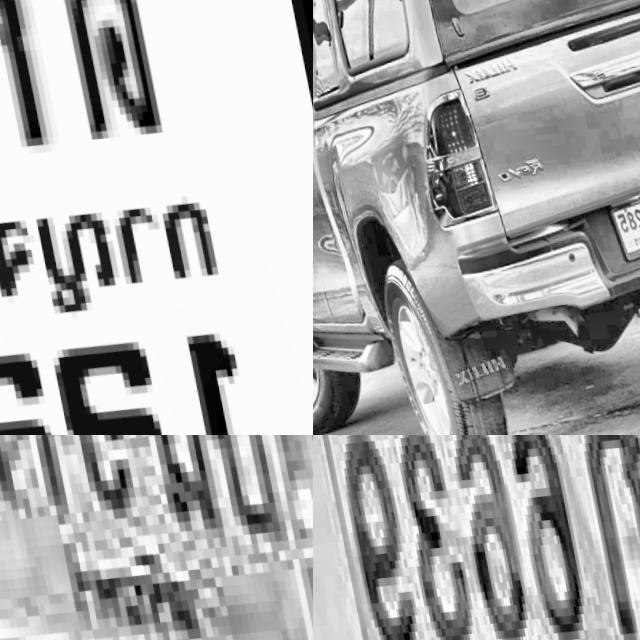license-plate: (0, 0, 313, 435), (313, 435, 640, 640), (0, 435, 313, 640), (601, 175, 640, 260)
